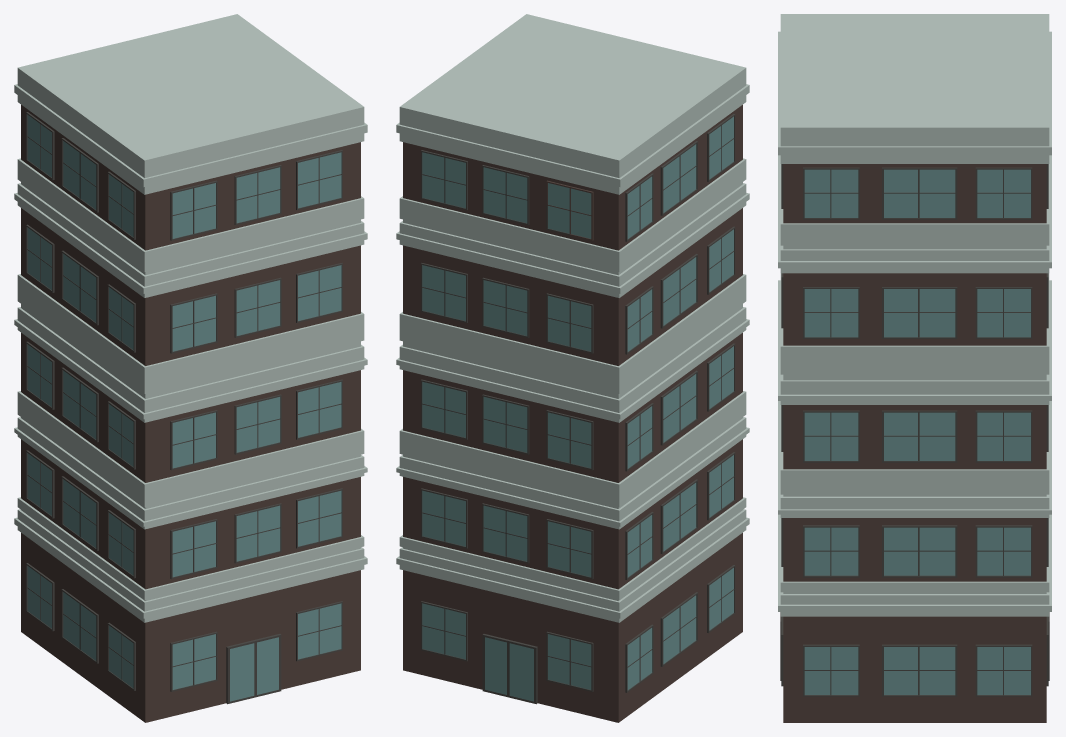
Rendered from Skyscraper02.fbx.
The picture shows the model from 3 angles, left to right: view 1: azimuth 30°, elevation 25°; view 2: azimuth 150°, elevation 25°; view 3: azimuth 270°, elevation 25°; orthographic projection. The views are drawn at different scales.
Parts seen in each view (by area): view 1: Skyscraper_2_0; view 2: Skyscraper_2_0; view 3: Skyscraper_2_0.
Boxes of the visible parts, bbox=[...] form: Skyscraper_2_0: bbox=[14, 14, 367, 722]; Skyscraper_2_0: bbox=[396, 14, 749, 722]; Skyscraper_2_0: bbox=[778, 14, 1051, 722].
Size of the model in its own units: 208 by 500 by 208.
